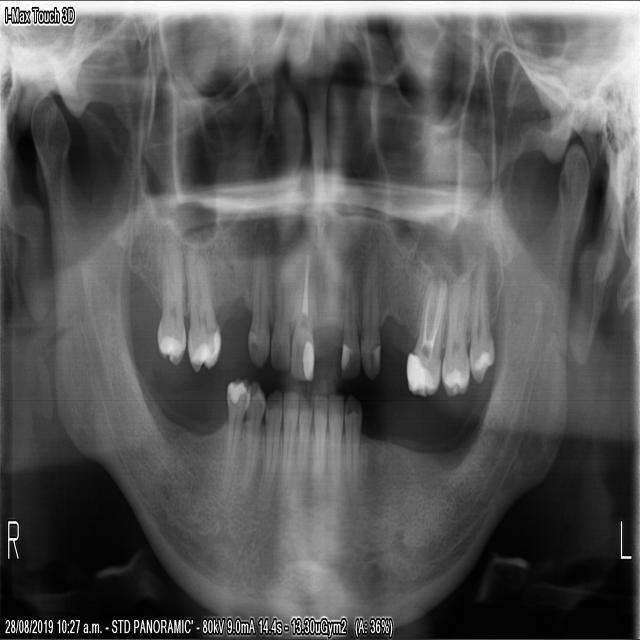LCD: (344, 389, 362, 504)
LCU: (360, 237, 383, 382)
LID: (327, 391, 343, 493), (312, 392, 328, 485)
LIU: (338, 258, 360, 382)
LMU: (404, 274, 448, 398), (440, 268, 470, 401), (468, 256, 497, 387)
RCD: (253, 384, 281, 505)
RCU: (244, 232, 267, 370)
RID: (294, 388, 314, 490), (279, 387, 296, 491)
RIU: (288, 243, 316, 385), (268, 247, 290, 375)
RMU: (183, 231, 222, 375), (154, 232, 184, 371)
RPMD: (216, 372, 249, 501), (234, 376, 261, 498)
